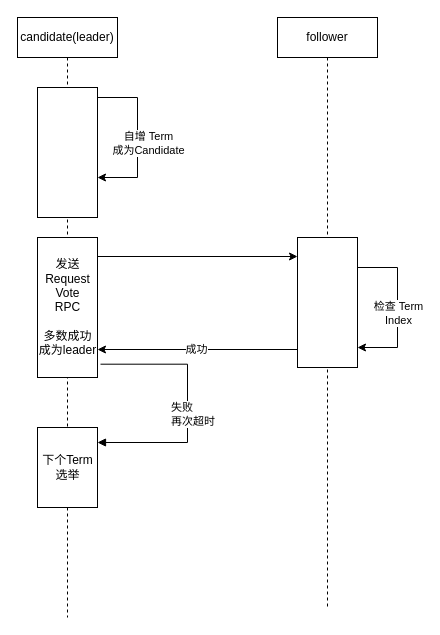
Image size: 440x635. Some labels were removed from this diagram. The centre of each missing label's shape, as x and y in pixels:
一段时间 没有收到 valid RPC: [67,152]
收到 Request Vote RPC: [327,302]
